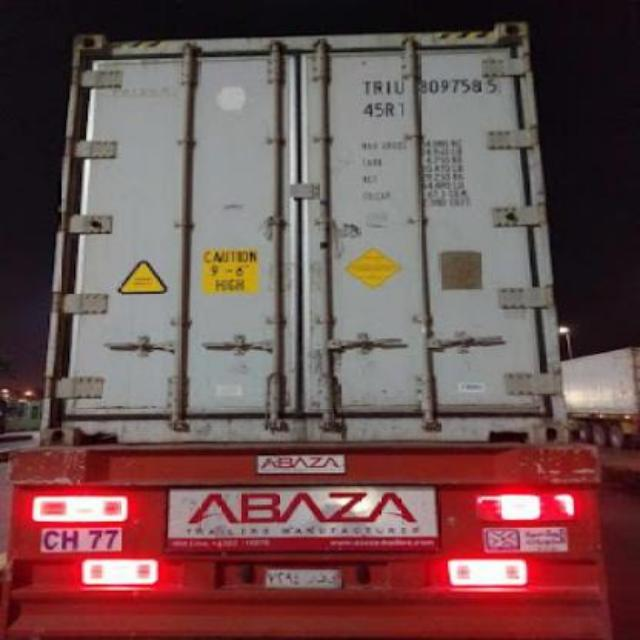0: (428, 73, 440, 97)
5: (486, 76, 504, 96), (458, 74, 472, 96)
7: (450, 76, 460, 100)
8: (472, 74, 486, 95), (420, 70, 430, 94)
9: (440, 72, 448, 98)
I: (384, 78, 392, 98)
R: (374, 78, 386, 98)
T: (361, 78, 374, 100)
U: (392, 76, 406, 96)
